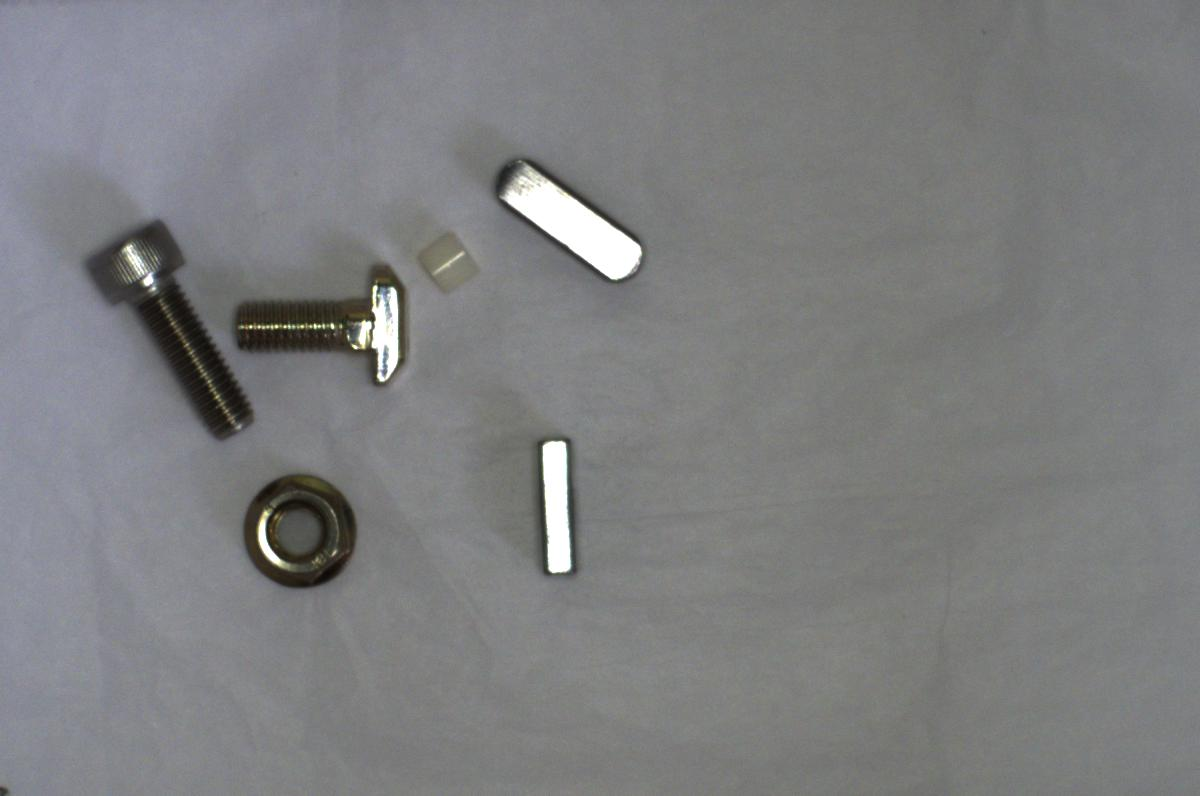Flange nut: (238, 468, 364, 589)
Hexagon screw: (84, 220, 253, 436)
Keybar: (492, 150, 644, 288)
Plastic cushion pillar: (408, 227, 495, 294)
Rectangular nut: (524, 430, 585, 582)
T-shaped screw: (231, 261, 405, 386)
